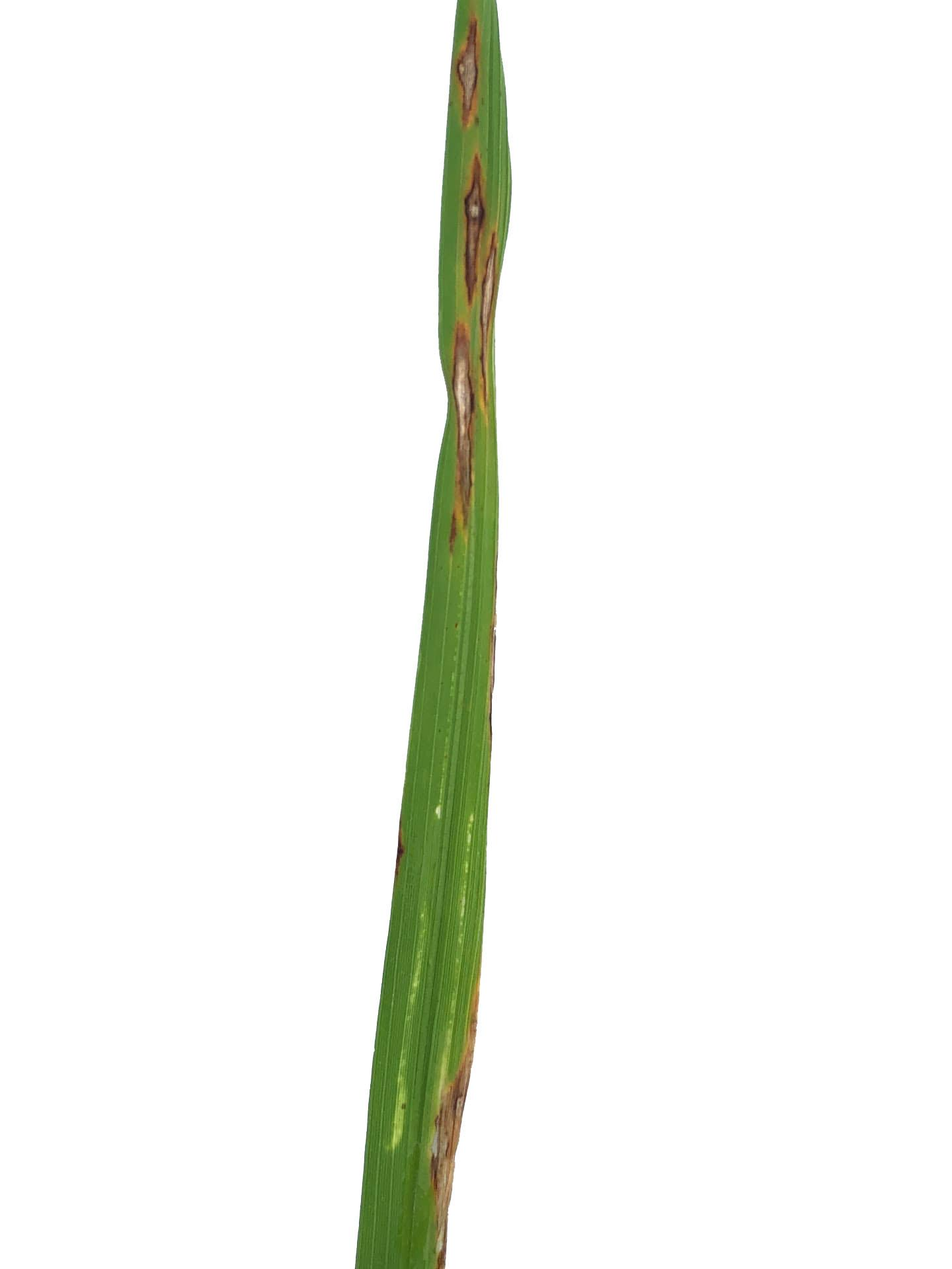Rice blast: (442, 307, 483, 549), (432, 974, 463, 1255), (453, 13, 482, 145), (460, 150, 482, 297), (477, 220, 500, 351)
